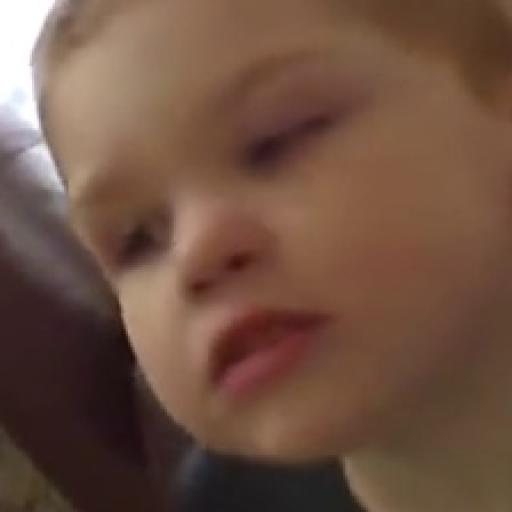Autism: (9, 4, 512, 512)
